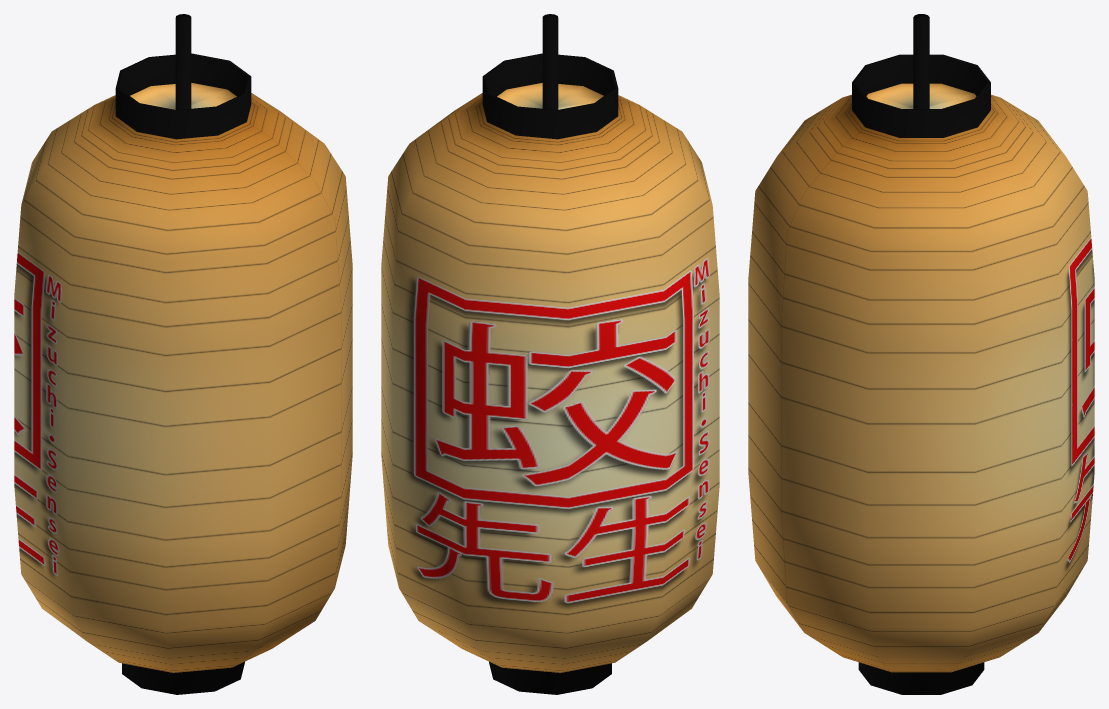
The model's file is JapaneseLantern.fbx.
3 renders of one model, left to right at view 1: azimuth 30°, elevation 25°; view 2: azimuth 150°, elevation 25°; view 3: azimuth 270°, elevation 25°, orthographic.
Visible parts, largest first — view 1: Cylinder; view 2: Cylinder; view 3: Cylinder.
Part boxes in pixels (x1=…): Cylinder: x1=14, y1=14, x2=352, y2=694; Cylinder: x1=381, y1=14, x2=719, y2=694; Cylinder: x1=748, y1=14, x2=1094, y2=694.
Bounding box in the file's own units: 218 × 476 × 229.
